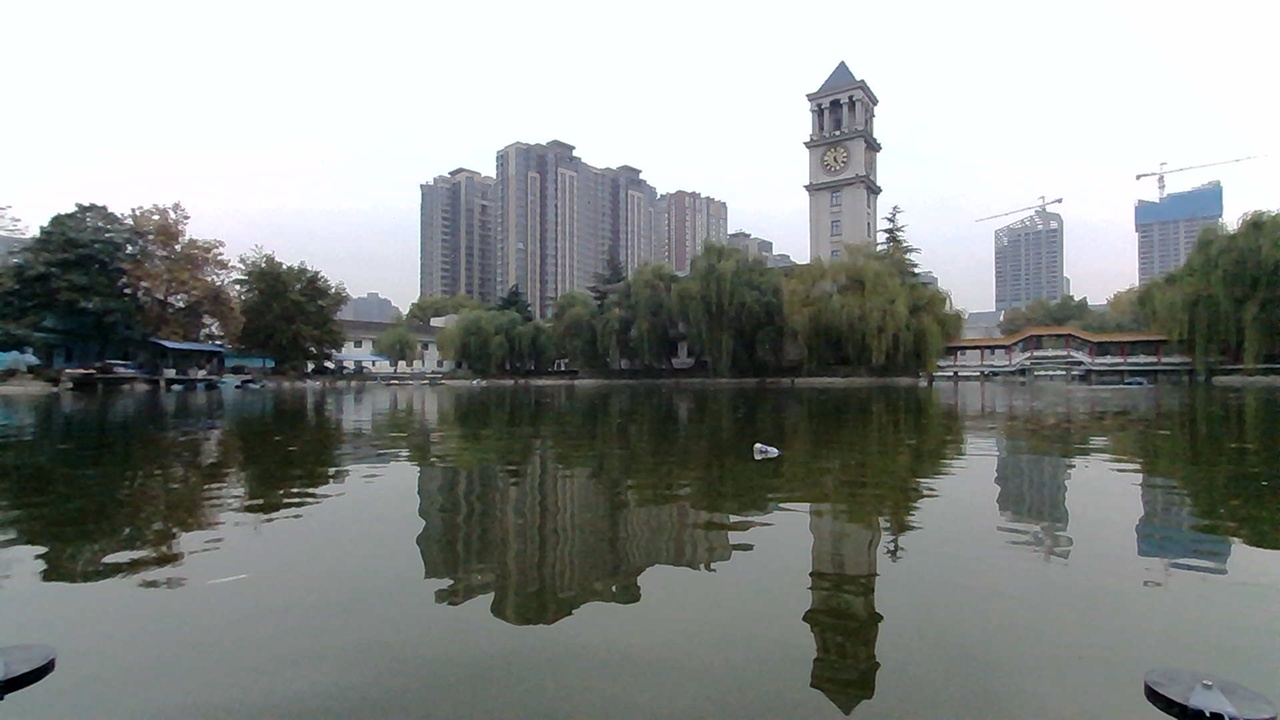bottle: (742, 433, 781, 463)
